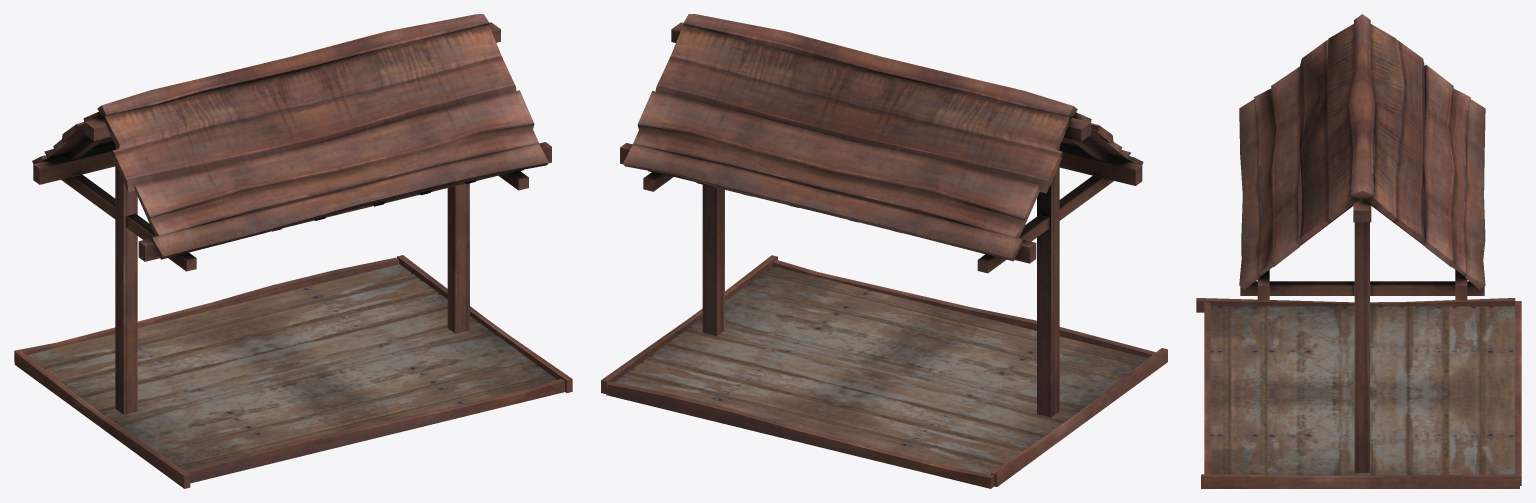
Rendered from Shelter.FBX.
The picture shows the model from 3 angles, left to right: view 1: azimuth 30°, elevation 25°; view 2: azimuth 150°, elevation 25°; view 3: azimuth 270°, elevation 25°; orthographic projection. The views are drawn at different scales.
Visible parts, largest first — view 1: shelter; view 2: shelter; view 3: shelter.
Part boxes in pixels (left/top/right/bottom): shelter: left=14, top=14, right=572, bottom=488; shelter: left=601, top=14, right=1167, bottom=488; shelter: left=1196, top=14, right=1521, bottom=488.
Size of the model in its own units: 83.13 by 64.05 by 61.19.
